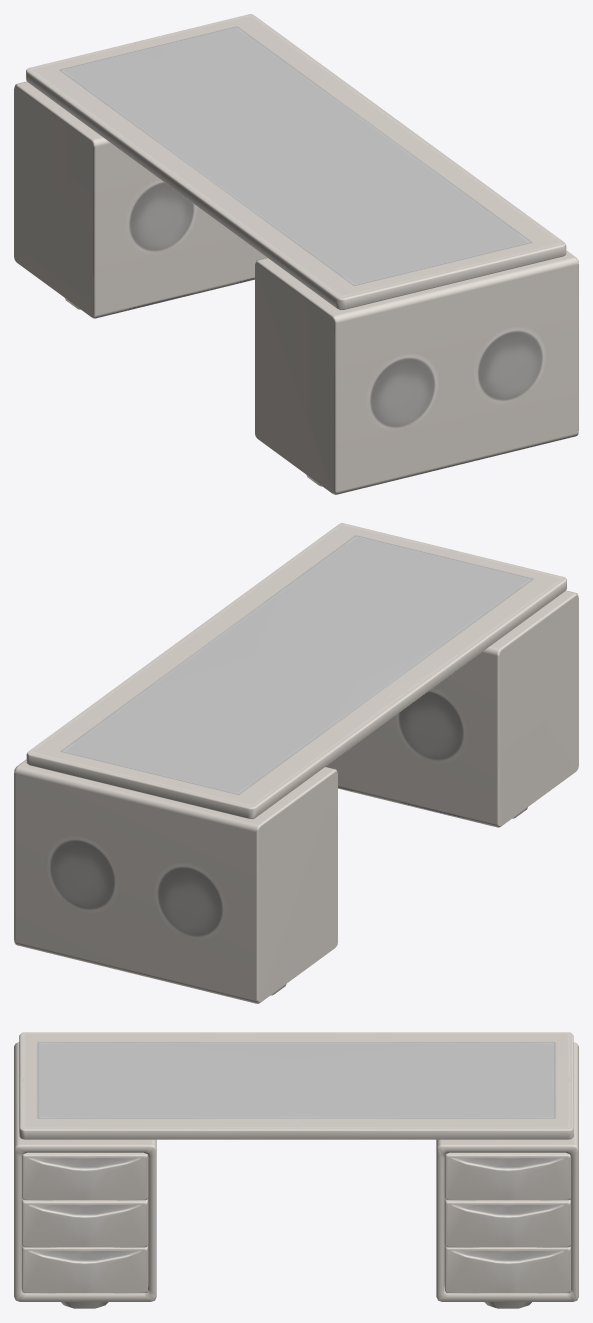
Rendered from Desk01.fbx.
3 renders of one model, top to bottom at view 1: azimuth 30°, elevation 25°; view 2: azimuth 150°, elevation 25°; view 3: azimuth 270°, elevation 25°, orthographic. The views are drawn at different scales.
Visible parts, largest first — view 1: Desk01; view 2: Desk01; view 3: Desk01.
Boxes of the visible parts, x1,y1,x2,y2 form: Desk01: (14,14,578,494); Desk01: (14,523,578,1003); Desk01: (14,1032,578,1308).
Size of the model in its own units: 4.05 by 3.32 by 9.14.
